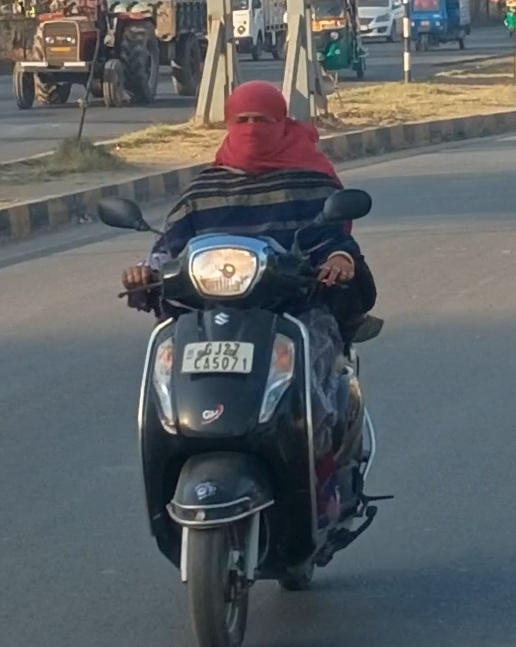BikeWithRider: (87, 73, 402, 646)
NoHelmet: (215, 75, 299, 155)
